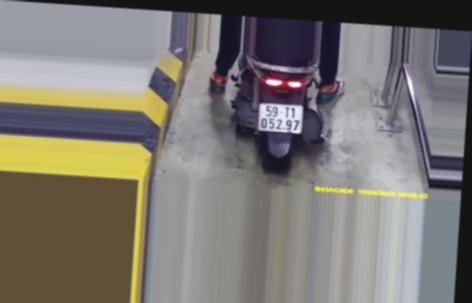License_Plate: (252, 97, 306, 134)
